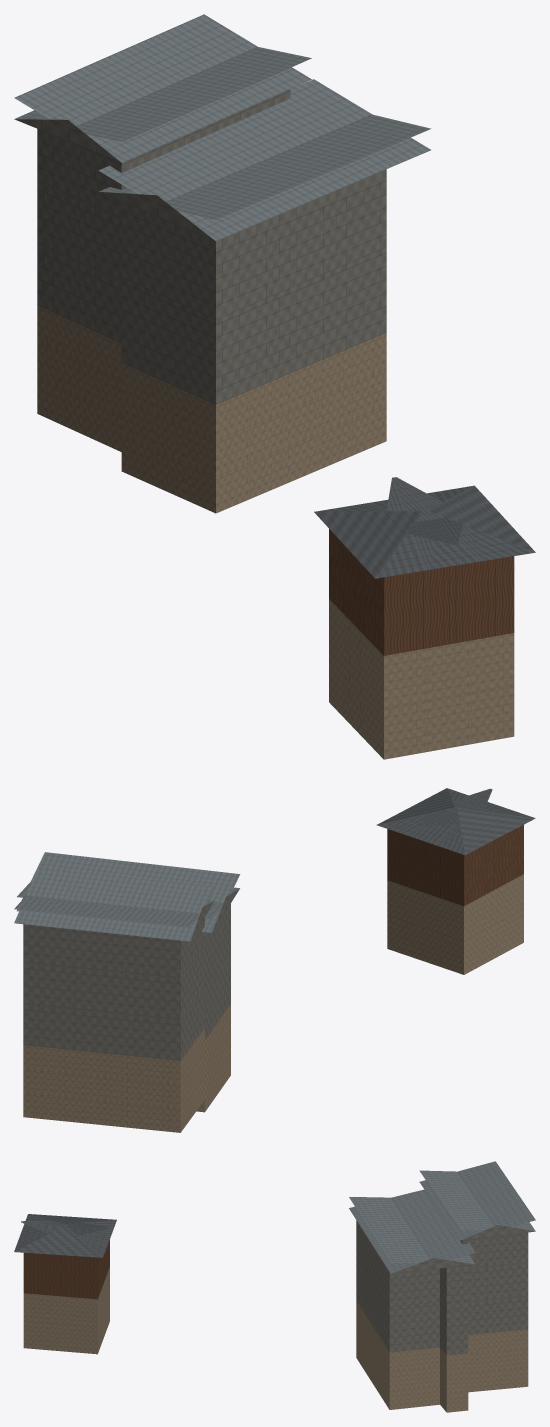
Rendered from bld_c10_16_452.gltf.
3 views of the same model, one above another, from view 1: azimuth 30°, elevation 25°; view 2: azimuth 150°, elevation 25°; view 3: azimuth 270°, elevation 25° (orthographic). The views are drawn at different scales.
Parts seen in each view (by area): view 1: bld_c10_16_452; view 2: bld_c10_16_452; view 3: bld_c10_16_452.
Part boxes in pixels (box(x1,y1,x2,y2)): bld_c10_16_452: box(14, 14, 535, 759); bld_c10_16_452: box(14, 788, 535, 1132); bld_c10_16_452: box(14, 1161, 535, 1412).
Bounding box in the file's own units: 19.58 × 15.8 × 41.9.
Materials: 6 (6 with a texture image).
